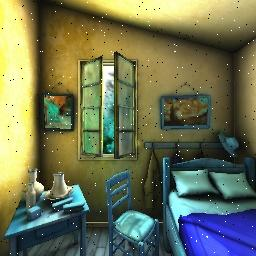bed: (157, 159, 256, 256)
chair: (100, 170, 164, 256)
table: (0, 170, 100, 256)
